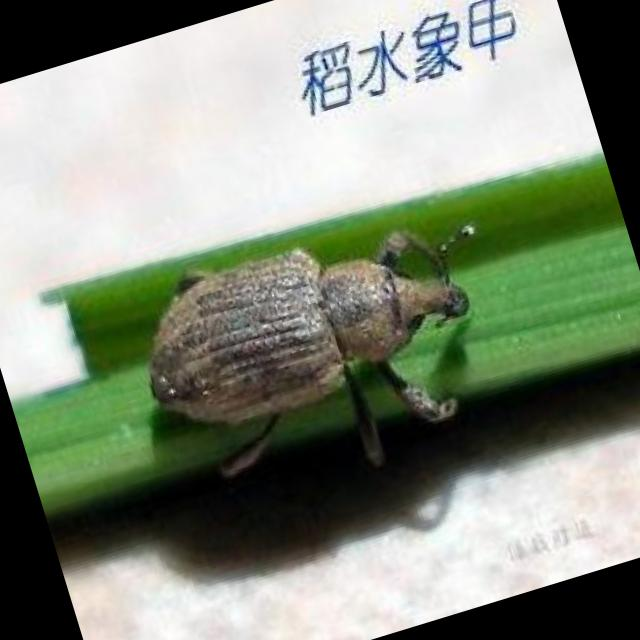rice-bug: (114, 186, 498, 478)
